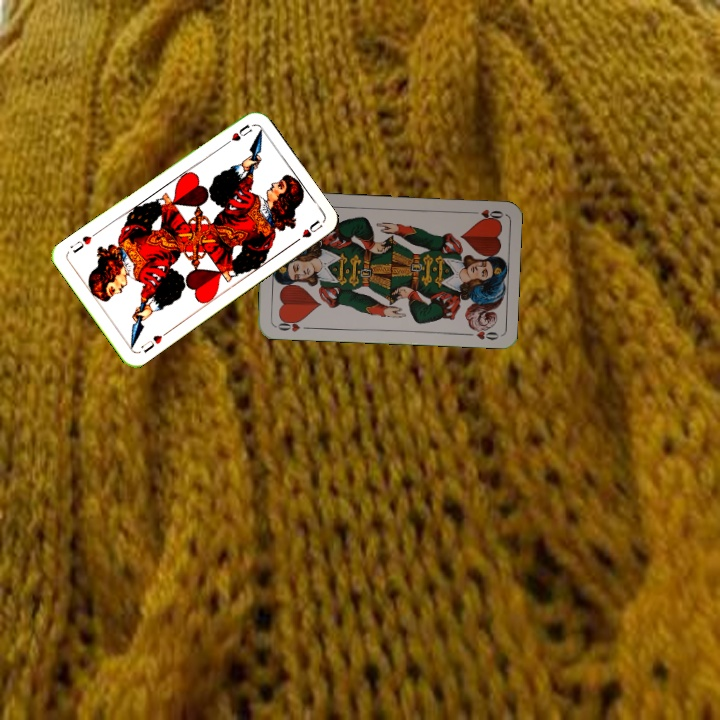HO: (272, 315, 313, 334), (465, 205, 506, 223)
HU: (219, 120, 255, 149), (137, 331, 165, 356)
